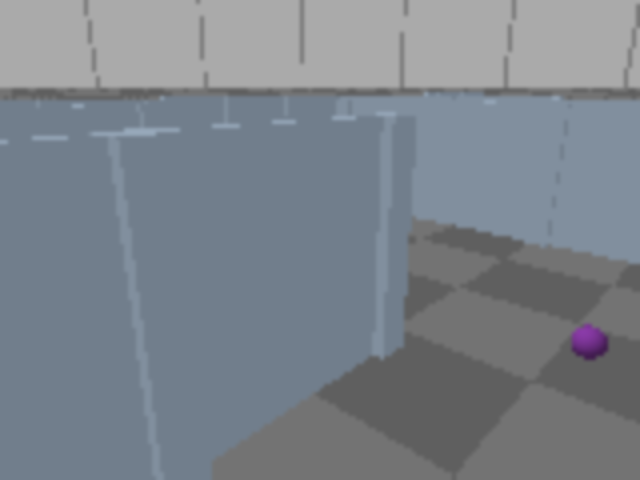puck: (561, 318, 619, 367)
